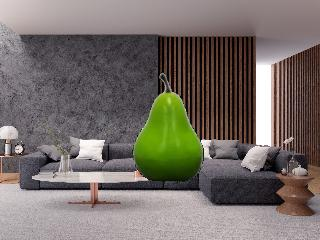pear: (133, 73, 203, 183)
